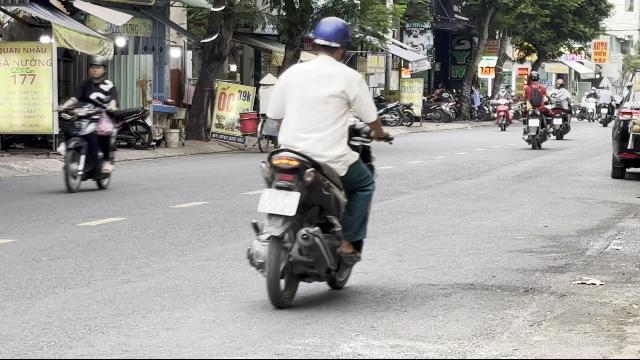helmet: (308, 15, 352, 61), (86, 56, 108, 80)
licenseplate: (258, 190, 298, 214)
motorcyclist: (247, 16, 391, 308), (54, 56, 122, 192)
